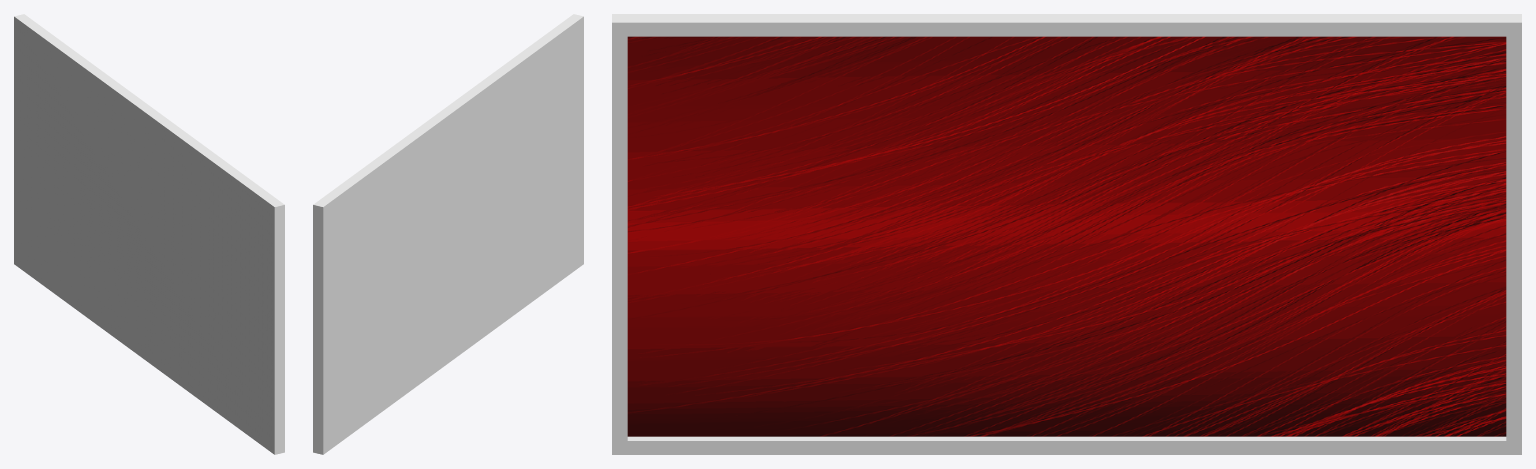
File: Painting3.fbx
3 renders of one model, left to right at view 1: azimuth 30°, elevation 25°; view 2: azimuth 150°, elevation 25°; view 3: azimuth 270°, elevation 25°, orthographic. The views are drawn at different scales.
Visible parts, largest first — view 1: Cube; view 2: Cube; view 3: Cube.
Part boxes in pixels (x1,y1,x2,y2): Cube: [14, 14, 284, 454]; Cube: [313, 14, 583, 454]; Cube: [612, 14, 1521, 454].
Size of the model in its own units: 3.6 by 83.85 by 160.
